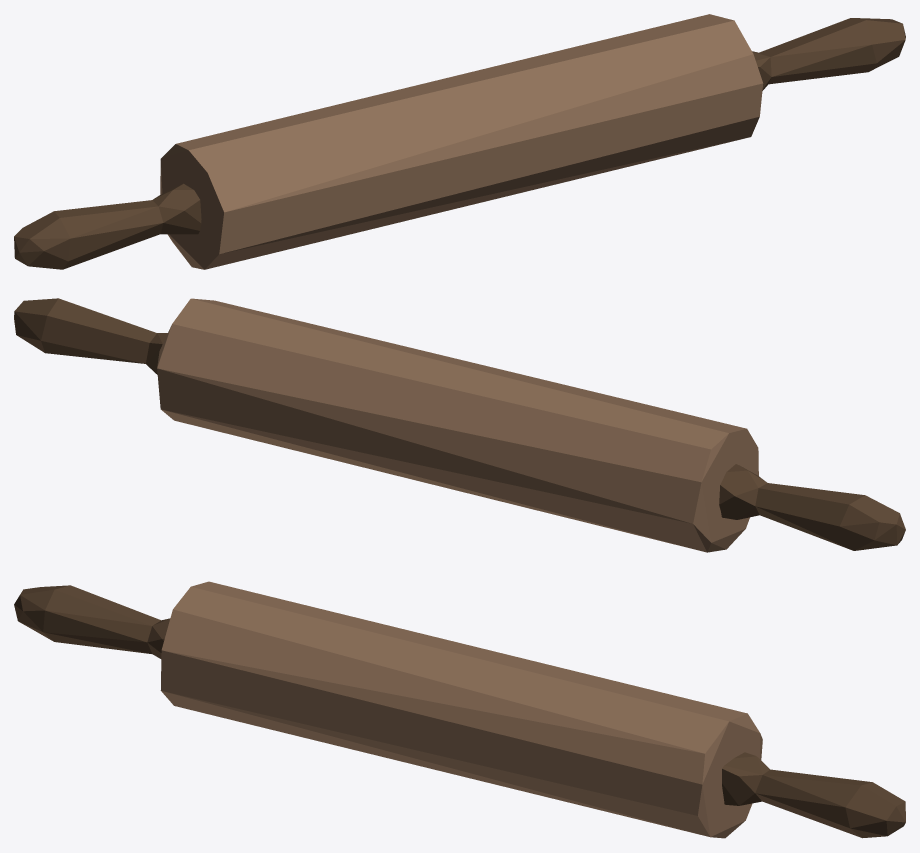
File: RollingPin.fbx
The picture shows the model from 3 angles, top to bottom: view 1: azimuth 30°, elevation 25°; view 2: azimuth 150°, elevation 25°; view 3: azimuth 330°, elevation 25°; orthographic projection.
Visible parts, largest first — view 1: RollingPinLowPoly; view 2: RollingPinLowPoly; view 3: RollingPinLowPoly.
Boxes of the visible parts, x1,y1,x2,y2 form: RollingPinLowPoly: [14, 14, 905, 269]; RollingPinLowPoly: [14, 298, 905, 552]; RollingPinLowPoly: [14, 581, 905, 838].
Size of the model in its own units: 41.99 by 5.33 by 5.29.
